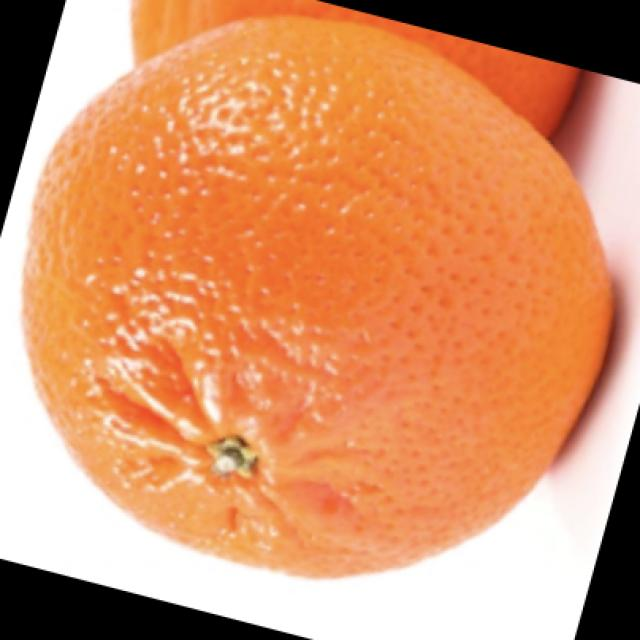fresh: (13, 14, 628, 588)
